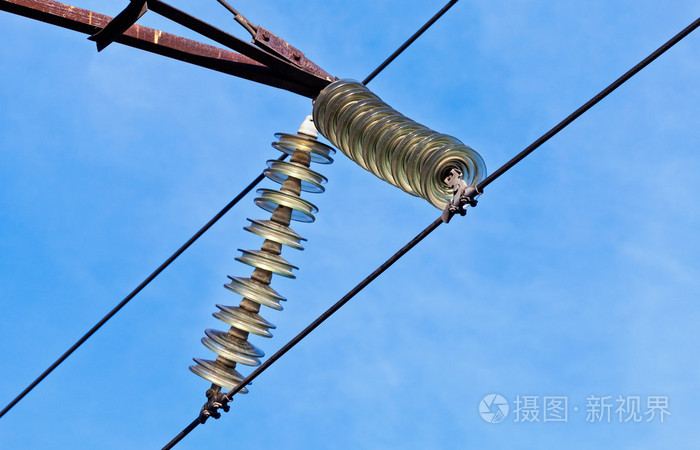insulator: (187, 130, 335, 393), (314, 79, 488, 209)
